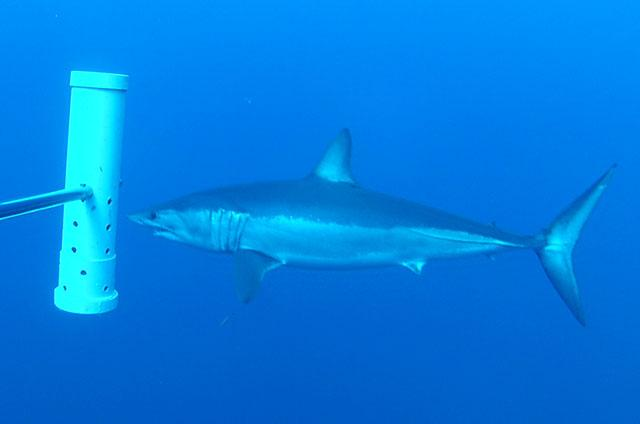Mulut: (127, 201, 185, 255)
Sirip Anal: (475, 240, 507, 270)
Sirip Dada: (222, 234, 286, 325)
Sirip Ekor: (524, 150, 628, 348)
Sirip Perut: (384, 245, 436, 287)
Sirip Punggung: (300, 117, 368, 205)
